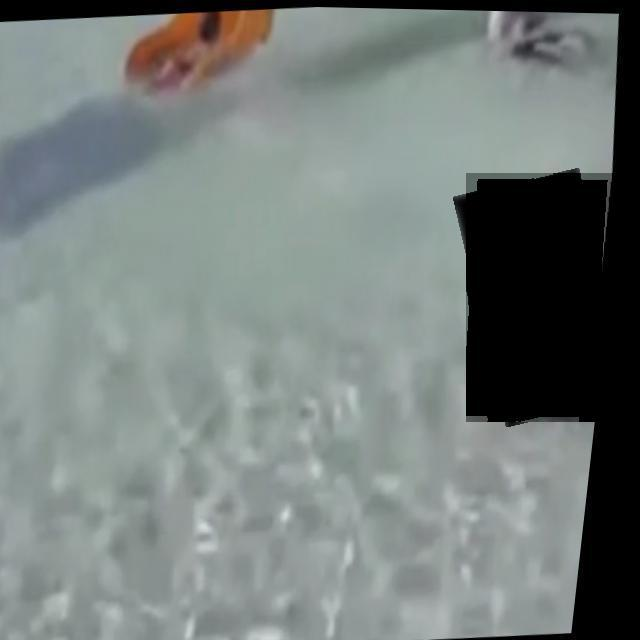swimming: (466, 173, 620, 422)
